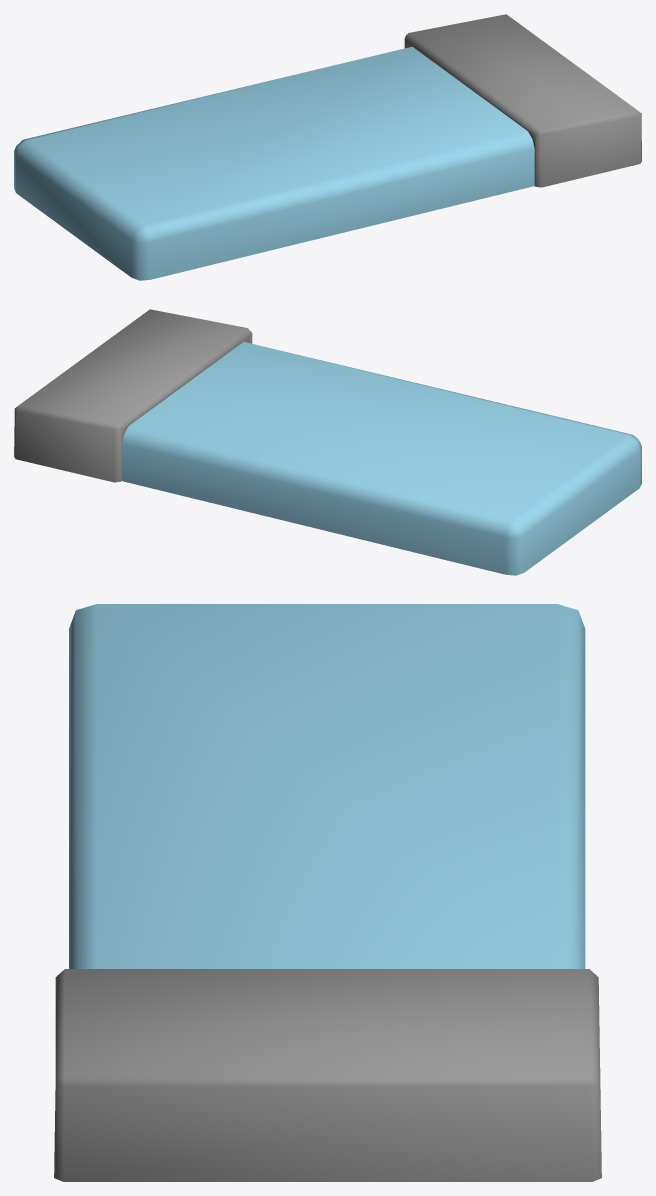
The model's file is PROPS_sheet_03.FBX.
3 renders of one model, top to bottom at view 1: azimuth 30°, elevation 25°; view 2: azimuth 150°, elevation 25°; view 3: azimuth 270°, elevation 25°, orthographic. The views are drawn at different scales.
Visible parts, largest first — view 1: PROPS_sheet_03; view 2: PROPS_sheet_03; view 3: PROPS_sheet_03.
Boxes of the visible parts, x1=… form: PROPS_sheet_03: x1=14, y1=14, x2=641, y2=280; PROPS_sheet_03: x1=14, y1=309, x2=641, y2=575; PROPS_sheet_03: x1=54, y1=604, x2=601, y2=1181.
Size of the model in its own units: 223 by 24.14 by 106.
